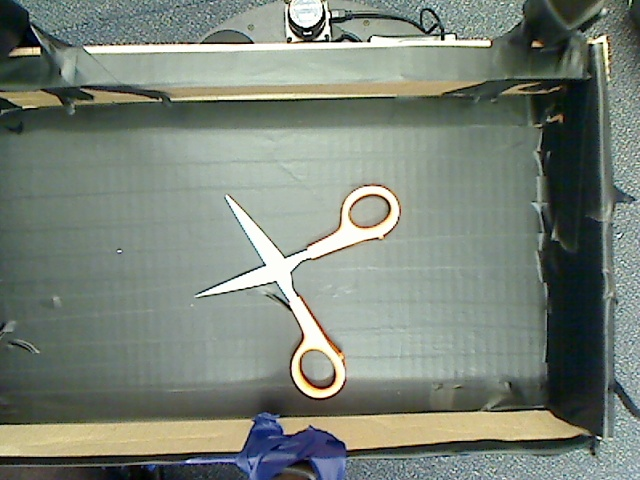scissors: (190, 156, 414, 409)
